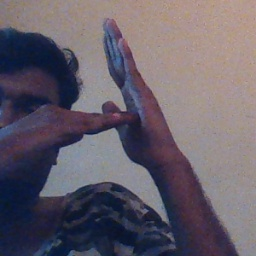Z: (45, 15, 173, 166)
